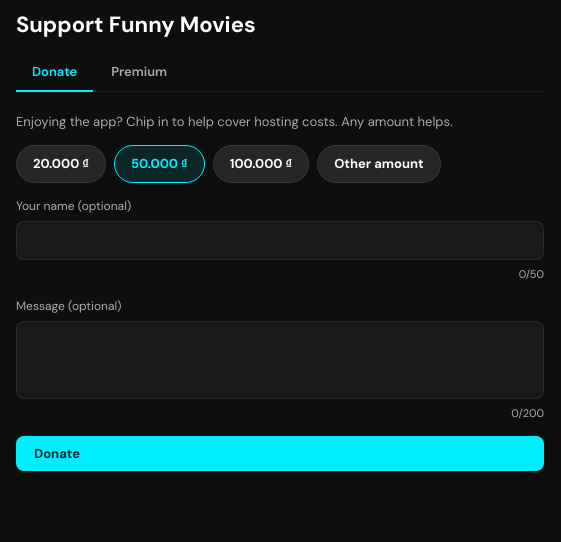
Test: DonatePage donate flow › blocks custom amounts below the minimum
Click the button "Other amount". click: (379, 164)
box: 317,145 -> 441,183
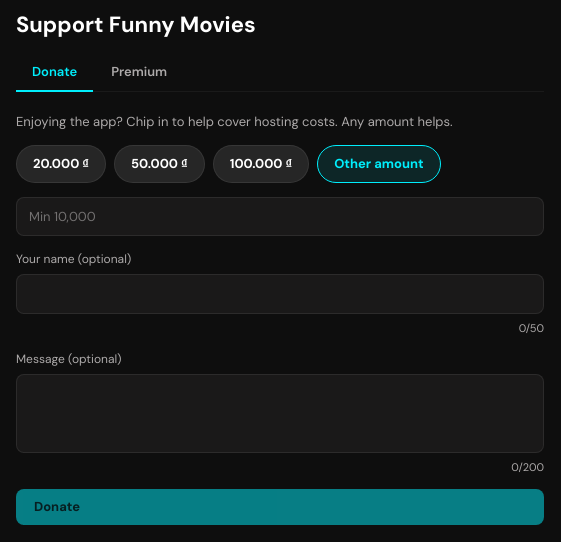
Type "5000" into the field named "Amount (VND)". click: (280, 217)
box: 16,197 -> 544,236
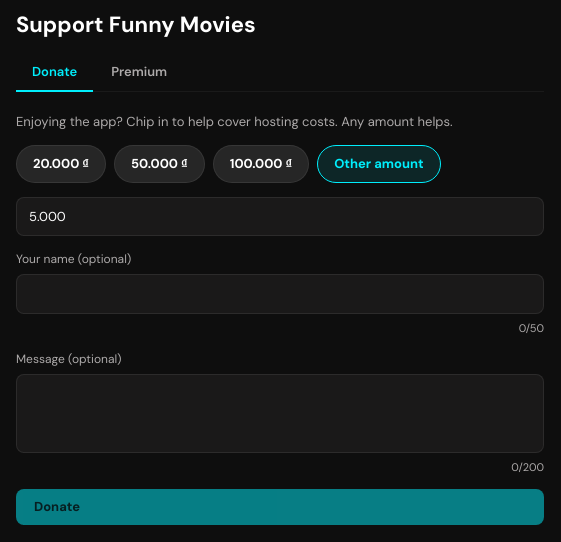
Check: the button "Donate" is disabled, box 16,489 -> 544,525
Replace the text in the field named "Amount (VND)" with "10000". click: (280, 217)
box: 16,197 -> 544,236
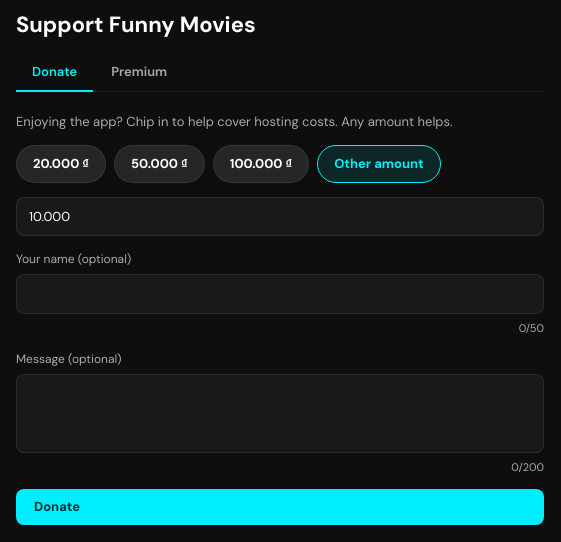
Check: the button "Donate" is enabled, box 16,489 -> 544,525
